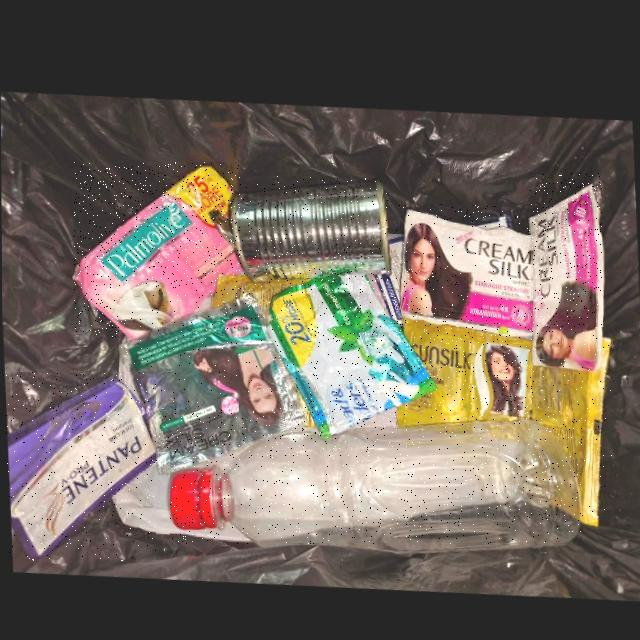metal: (228, 177, 389, 273)
plastic: (171, 411, 582, 544)
wrapper: (119, 289, 308, 472), (74, 163, 241, 338), (267, 269, 436, 435), (7, 373, 156, 561), (399, 205, 532, 331), (529, 327, 612, 516), (396, 313, 532, 420), (531, 173, 602, 363), (212, 271, 311, 320), (375, 229, 403, 325), (460, 206, 513, 221)
